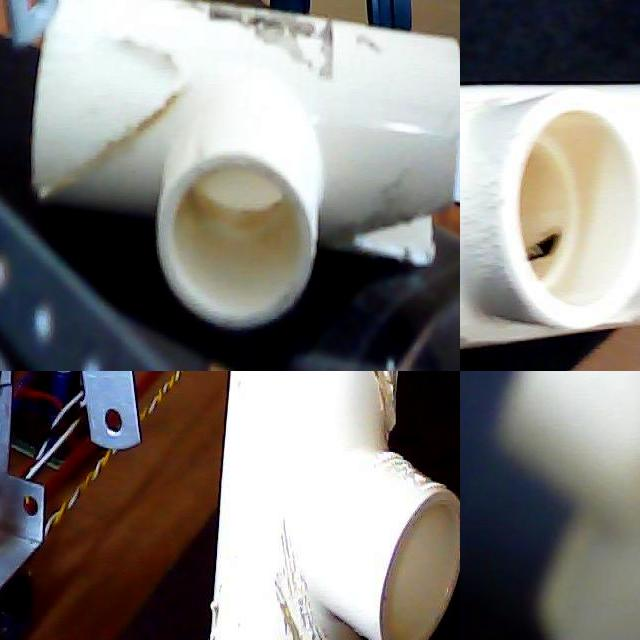Defective: (16, 90, 264, 230), (221, 482, 366, 640), (326, 191, 460, 287), (191, 8, 365, 78), (496, 220, 588, 285), (340, 371, 399, 465), (244, 371, 270, 421)
T Joint: (31, 0, 460, 333), (206, 371, 460, 640), (460, 85, 640, 346)
